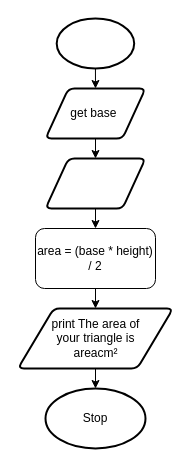
This 191x466 diagram has some shape labels left out. The shapes that lost their labels are listed below. From the top down, each one's centre as x and y in pixels, then its label:
At (95,43): "start".
At (95,183): "get height".
